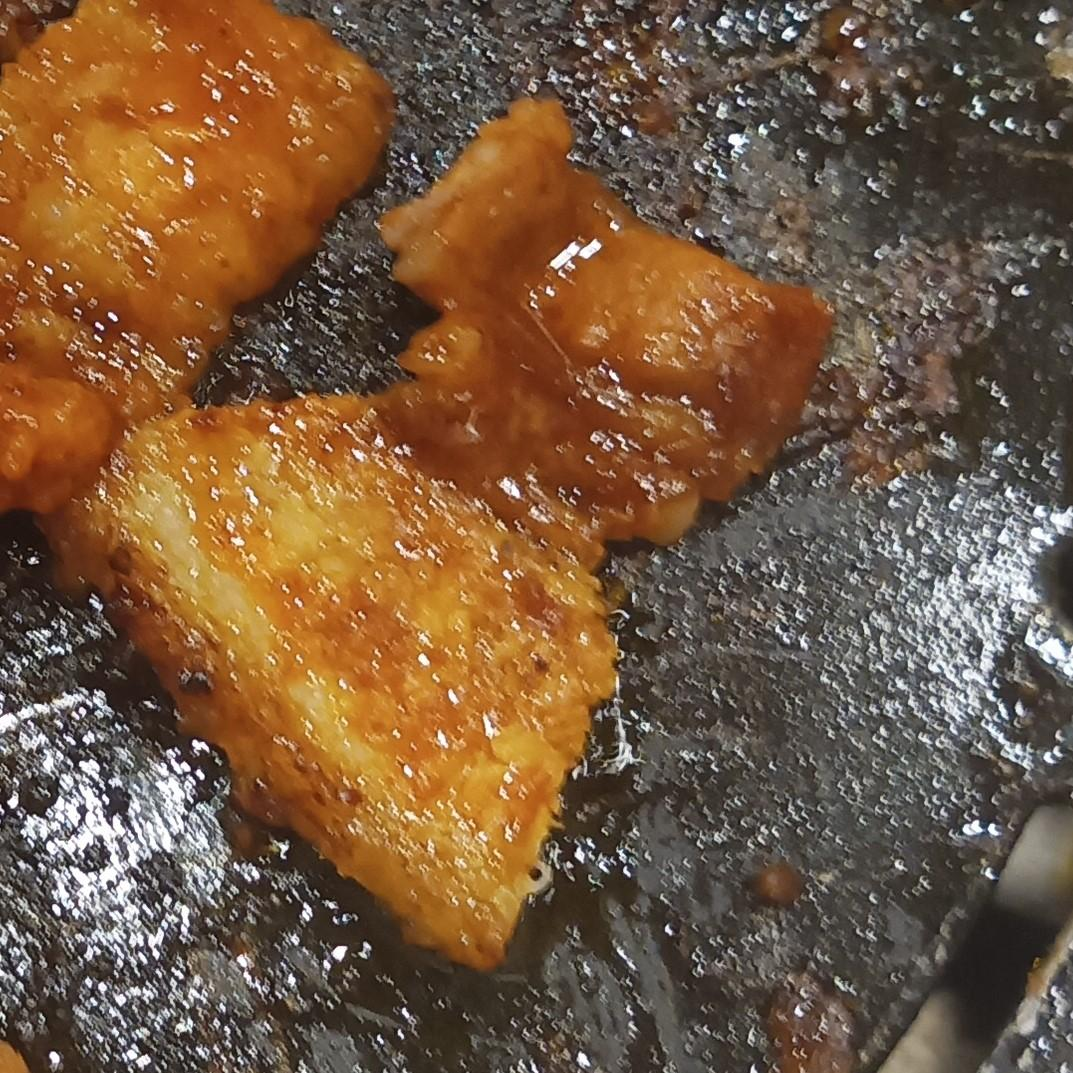Well-Cooked: (51, 99, 831, 968), (0, 0, 394, 509)
